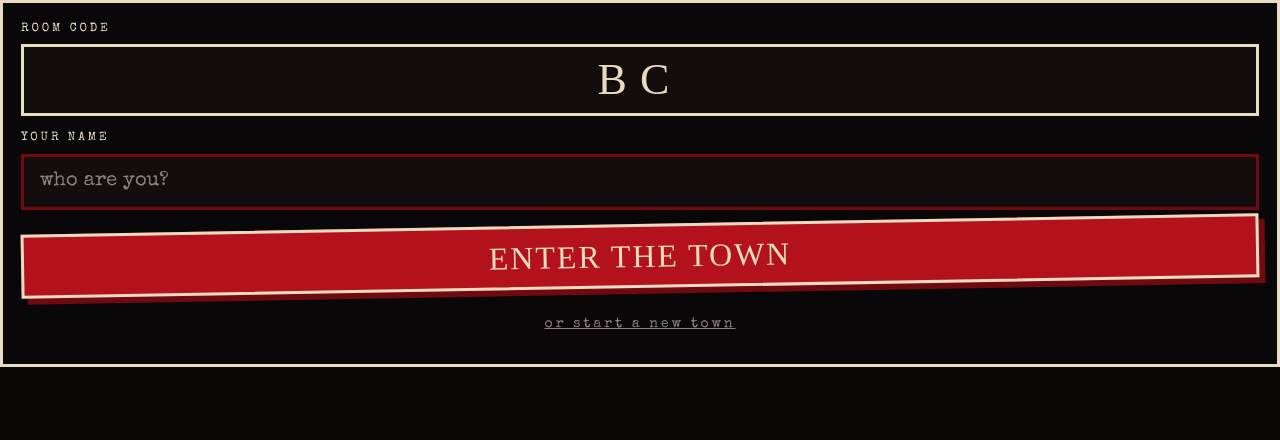
Test: JoinForm › requires a full four-letter code to join
Type "Ada" into the field labelled "Your name" at (640,182), box 21,154 -> 1259,210
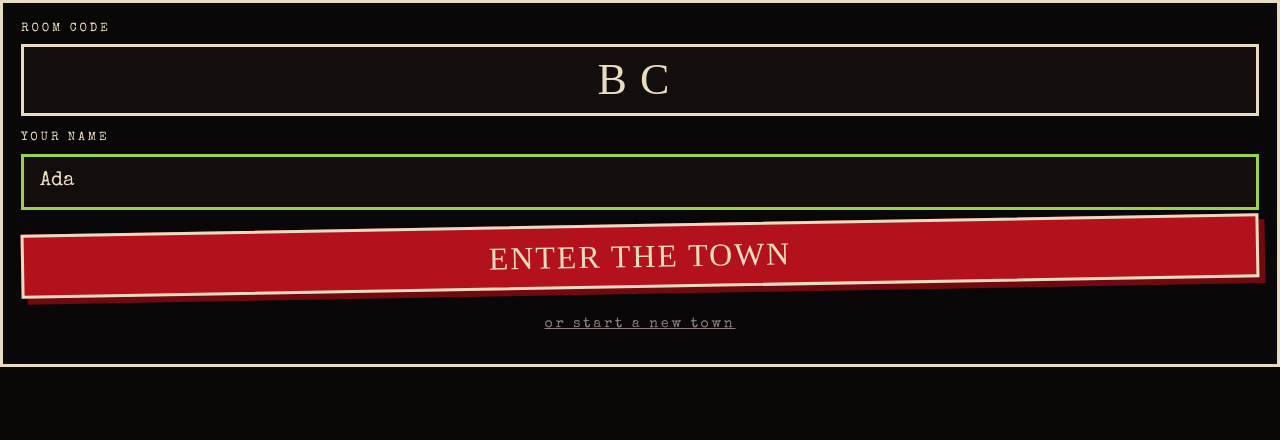
Click the button "ENTER THE TOWN" at (640,256), box 20,213 -> 1259,299
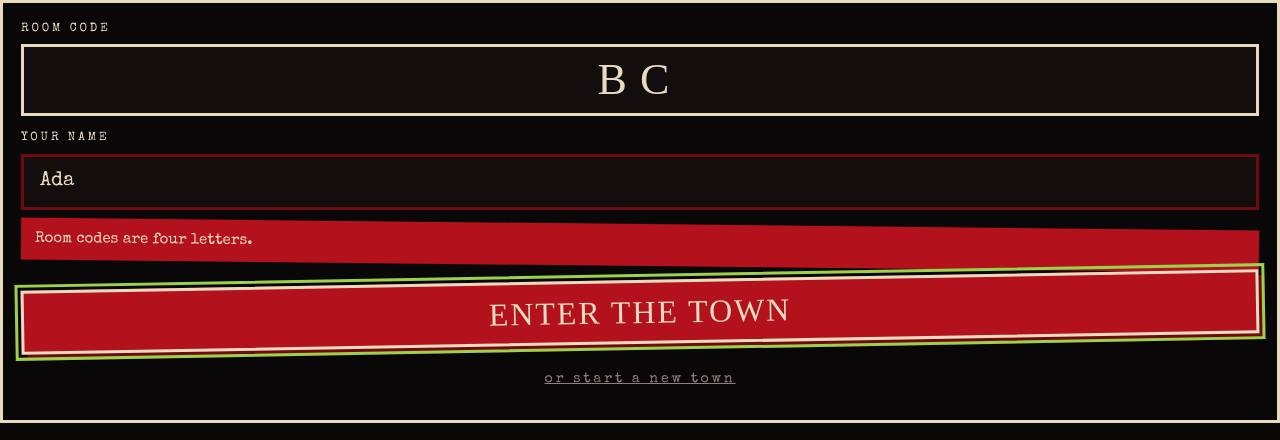
Now the message reads "Room codes are four letters.", box 35,230 -> 253,248
